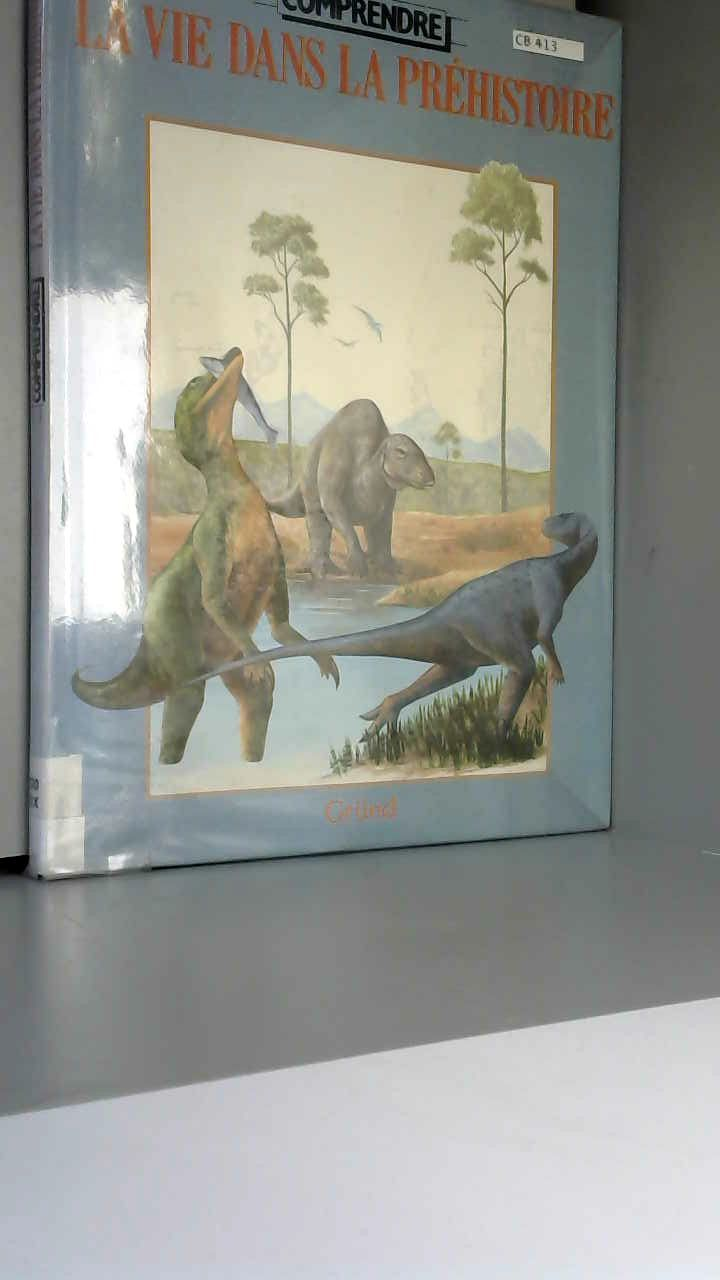book: (0, 0, 655, 926)
